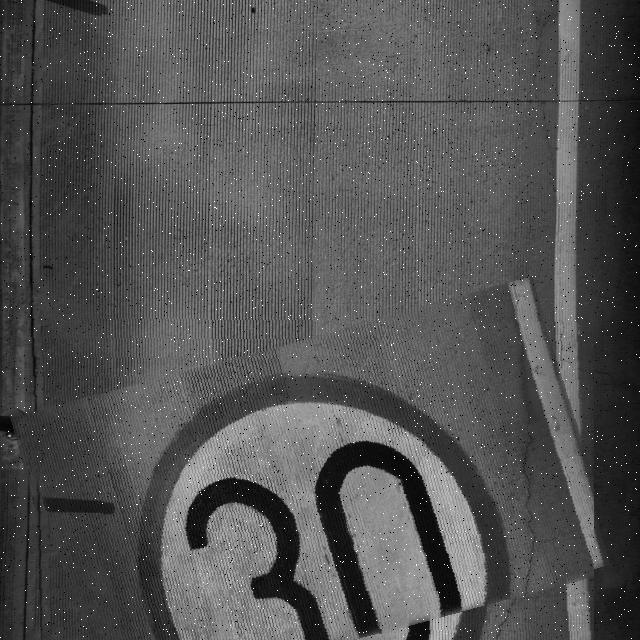30limit: (24, 308, 594, 640)
